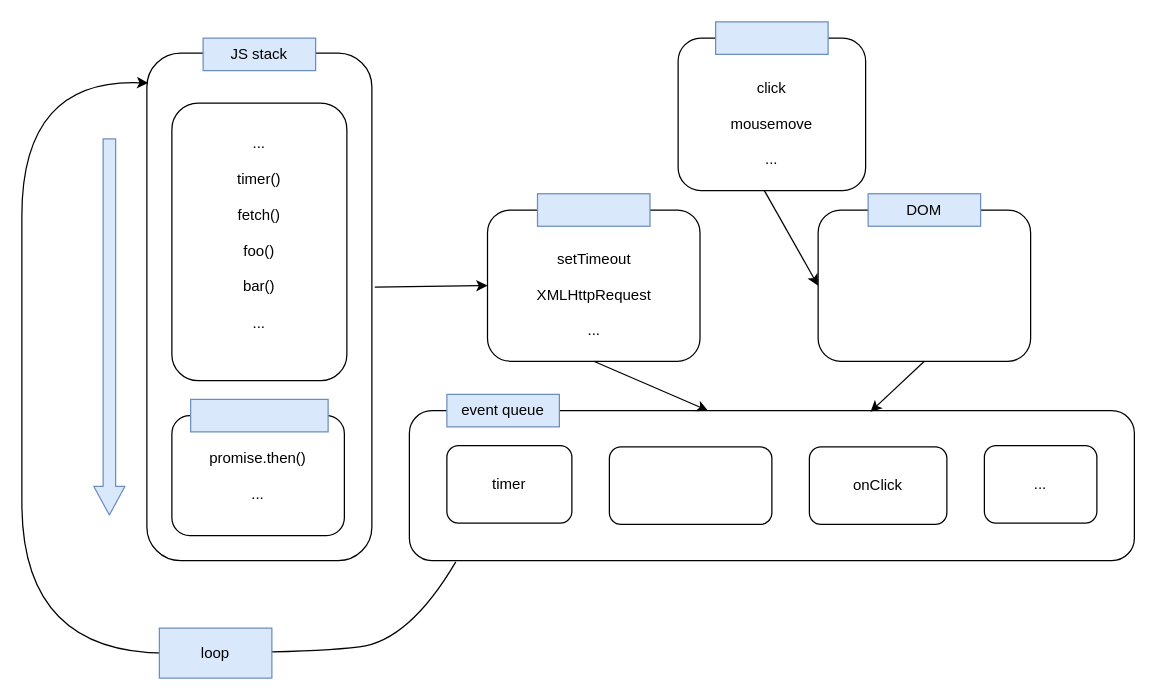
Image size: 1156x700. Some labels were removed from this diagram. The shapes that lost their labels are listed below. From the top down, each one's box as (x1, y1, x2, y2) in pixels, then its label:
(714, 21, 828, 54): UI
(536, 192, 650, 226): API
(817, 209, 1031, 361): onClick onFocus ...
(189, 398, 328, 432): micro task queue
(608, 446, 772, 524): http response
